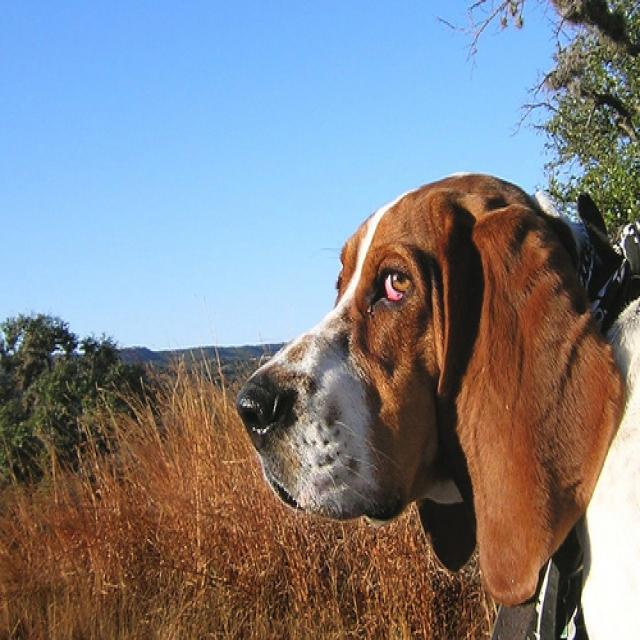dog-basset_hound: (228, 167, 637, 636)
